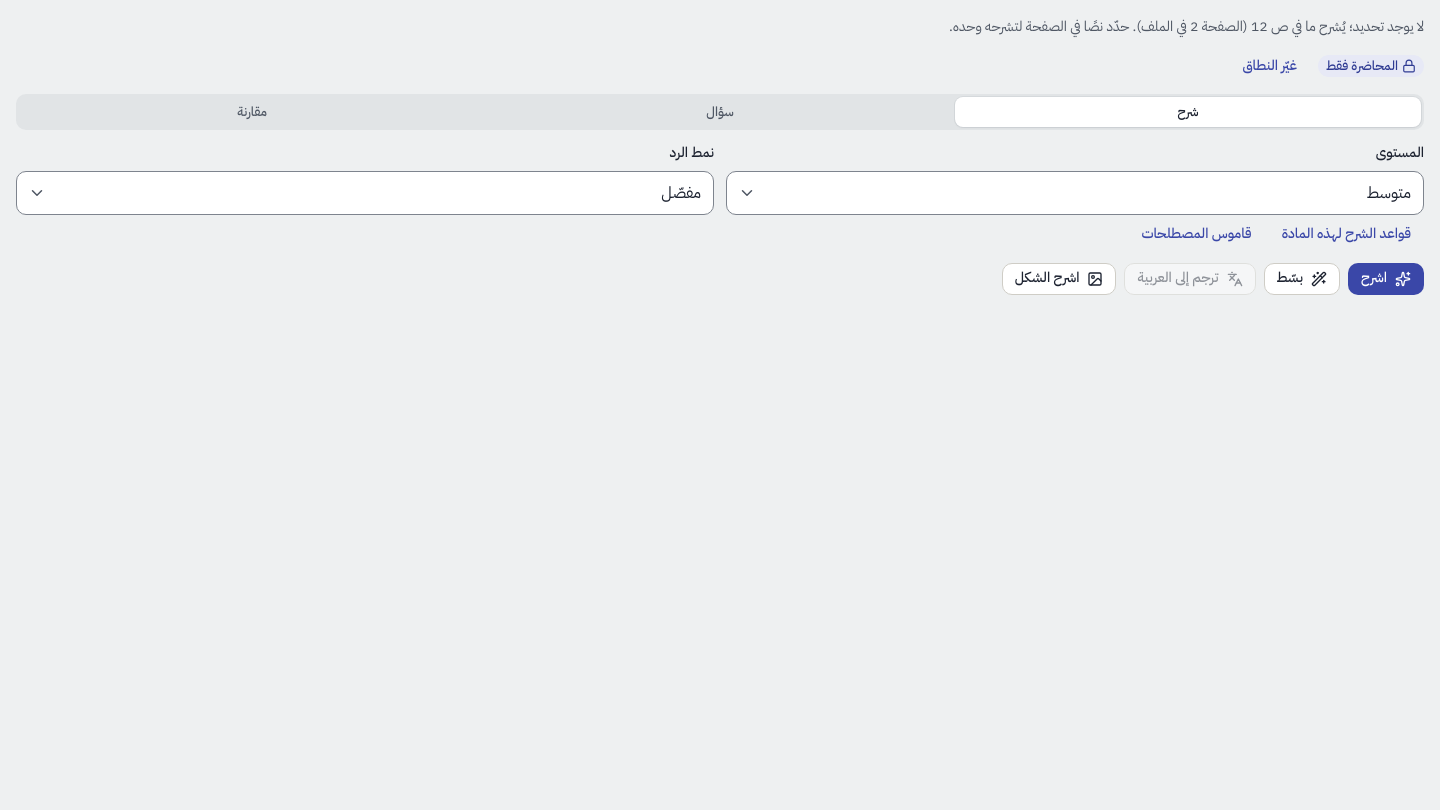
Test: ExplainTab › explains the page under the visible lock and renders the verified result with its evidence chip
Click the button "اشرح" at point(1386, 279), box [1348,263,1424,295]
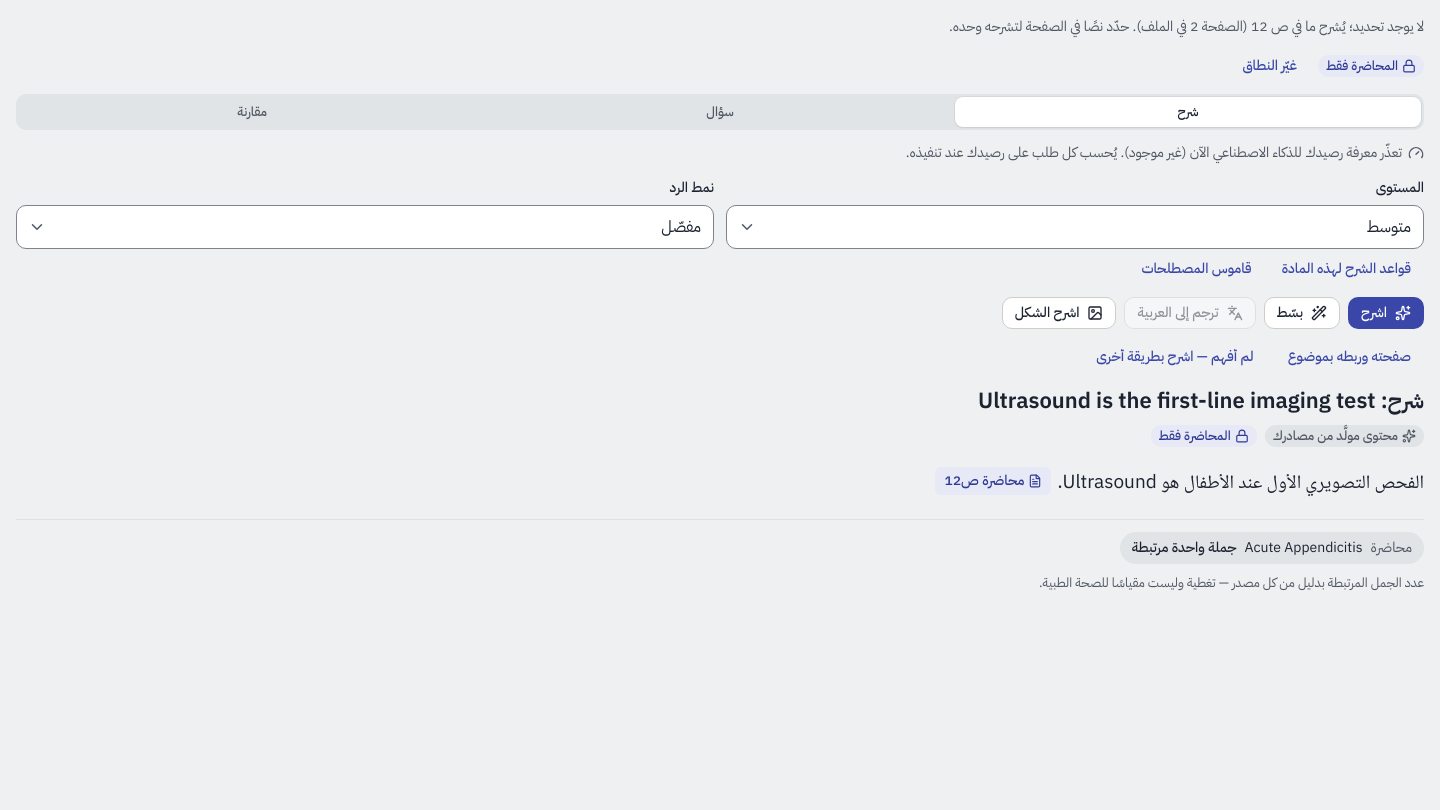
Now the heading "شرح: Ultrasound is the first-line imaging test" is shown, box [978,384,1424,417]
Now the text "محتوى مولَّد من مصادرك" is shown, box [1273,426,1398,446]
Now the button "محاضرة ص12" is shown, box [935,467,1052,495]
